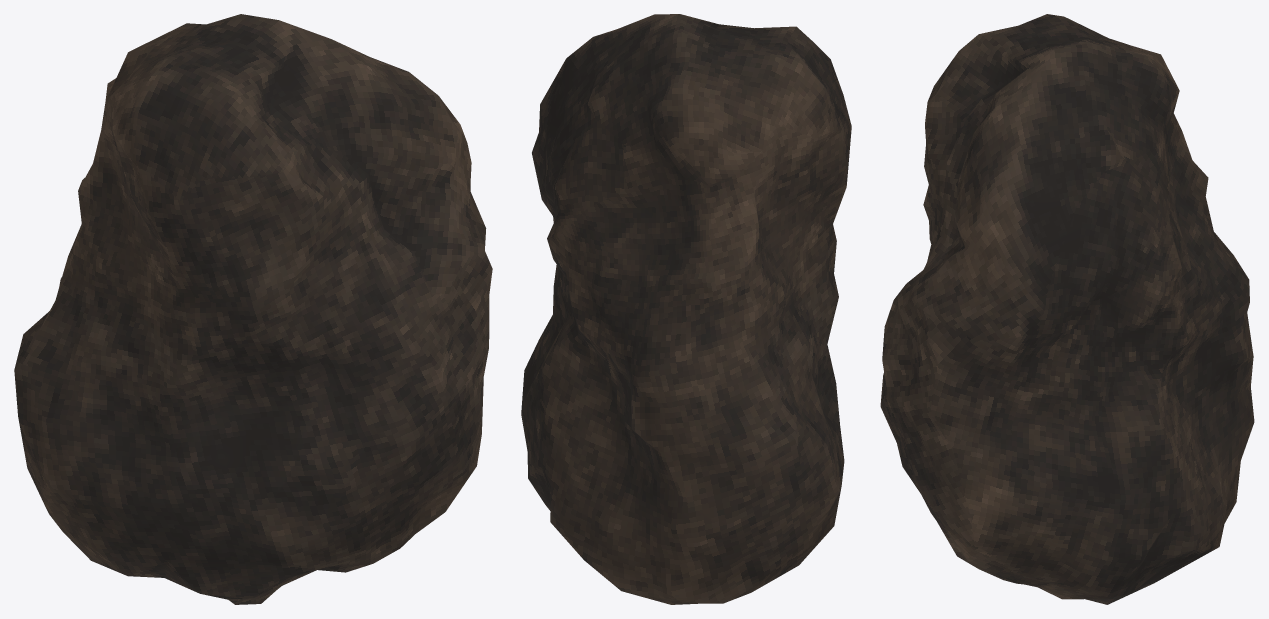
Rendered from SM_RP2_Rock_2m_4.002.glb.
3 renders of one model, left to right at view 1: azimuth 30°, elevation 25°; view 2: azimuth 150°, elevation 25°; view 3: azimuth 270°, elevation 25°, orthographic. The views are drawn at different scales.
Visible parts, largest first — view 1: SM_RP2_Rock_2m_4.002; view 2: SM_RP2_Rock_2m_4.002; view 3: SM_RP2_Rock_2m_4.002.
Part boxes in pixels (box(x1,y1,x2,y2)): SM_RP2_Rock_2m_4.002: box(14, 14, 492, 604); SM_RP2_Rock_2m_4.002: box(521, 14, 851, 604); SM_RP2_Rock_2m_4.002: box(880, 14, 1254, 604).
Bounding box in the file's own units: 2.33 × 3.6 × 2.2.
1 material, 1 textured.
